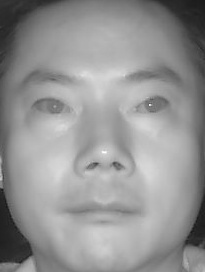eye: (27, 93, 74, 120), (131, 94, 174, 119)
mouth: (65, 191, 138, 232)
